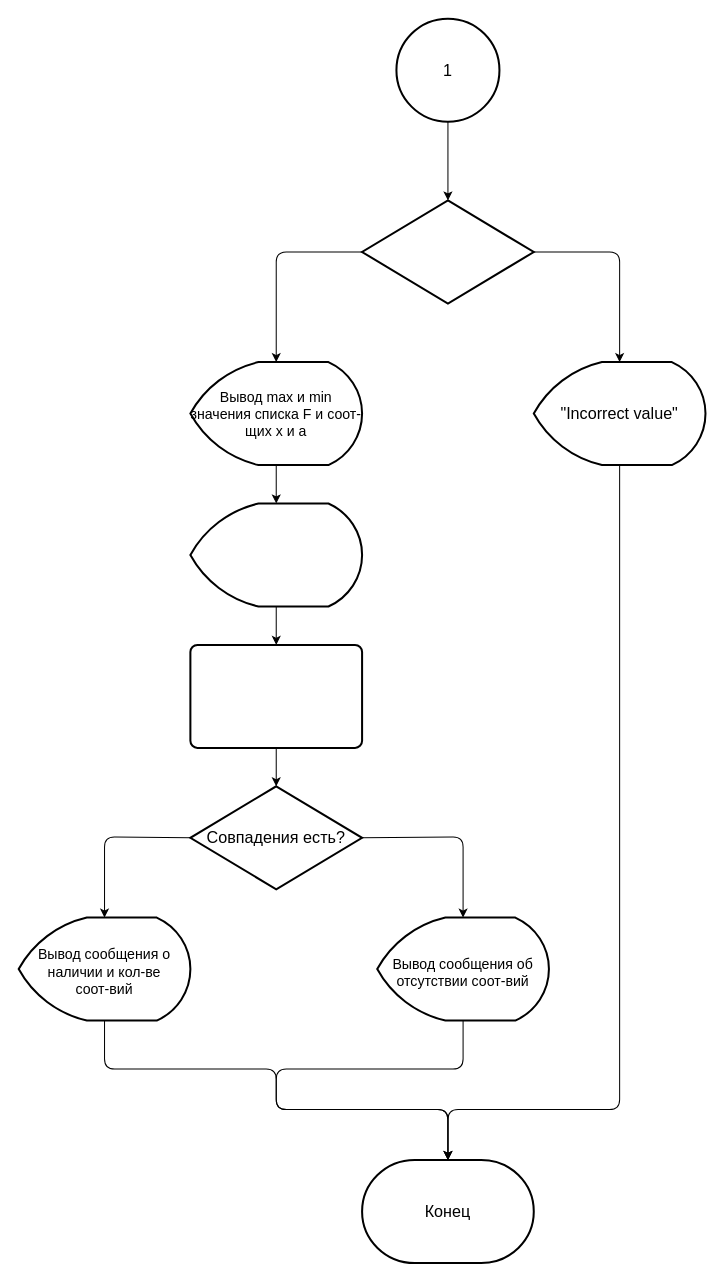
This 723x1281 diagram has some shape labels left out. The shapes that lost their labels are listed below. From the top down, each one's centre as x and y in pixels, then its label:
point 447,251: Выбор операции
point 276,554: Вывод всех элементов массива
point 276,695: Проверка на соответствие элементов с шаблоном
